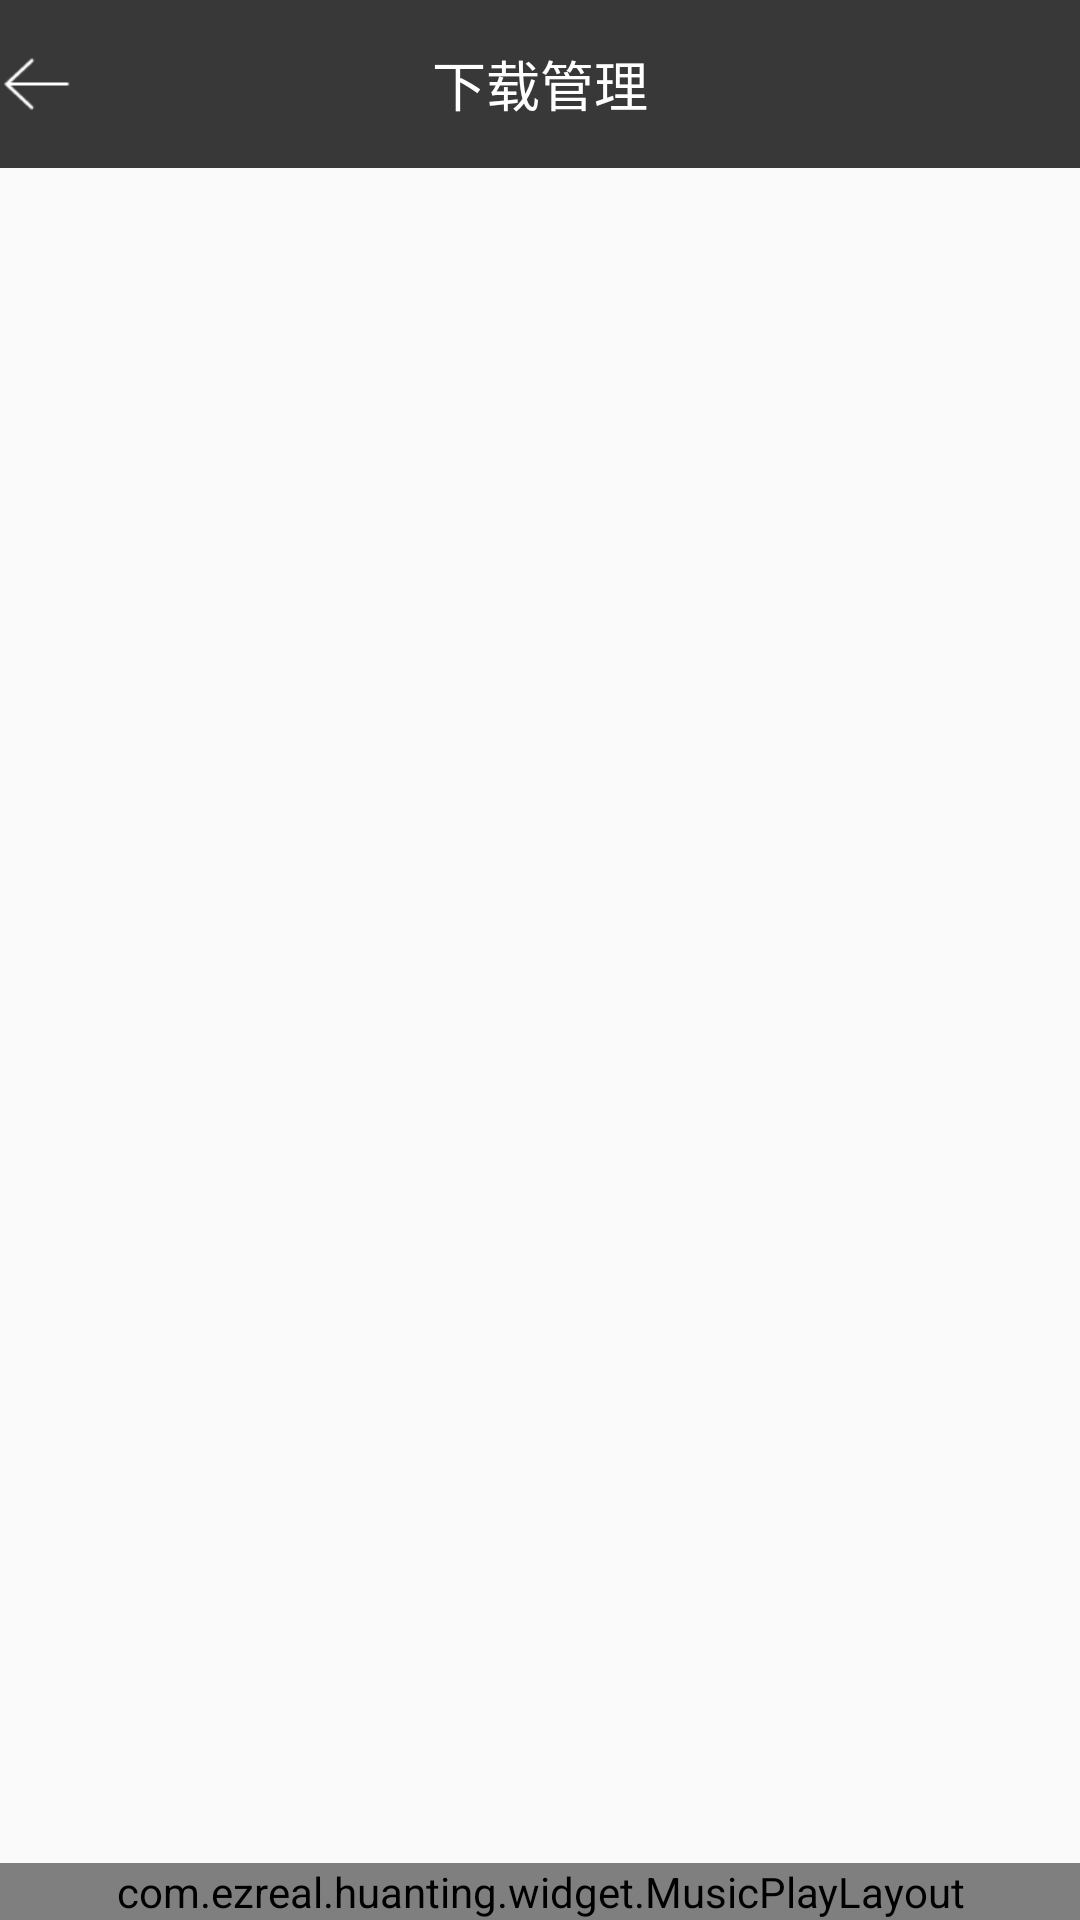

Named icons in this screenshot (1080px x 1920px) and their bounding boxes, [x1, y1, x2, y2]:
title back: [4, 58, 69, 110]
